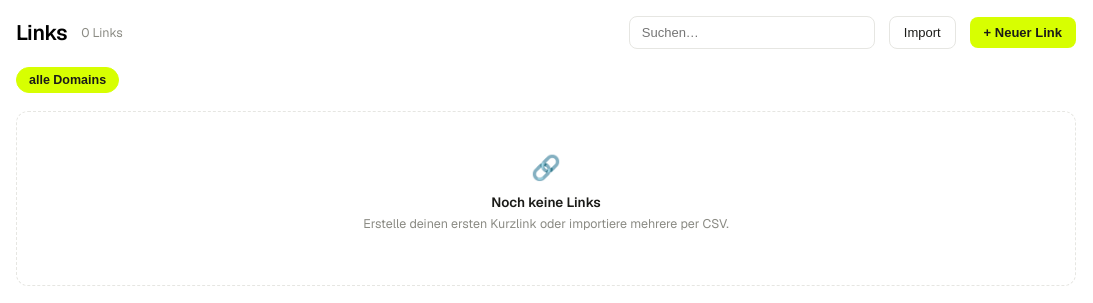
Test case: LinksView › WR-08: discards a stale search response that resolves after a newer one
This screenshot has width=1093, height=303.
In the field with class "search-input": (752,32) [629,16,875,49], type "a"
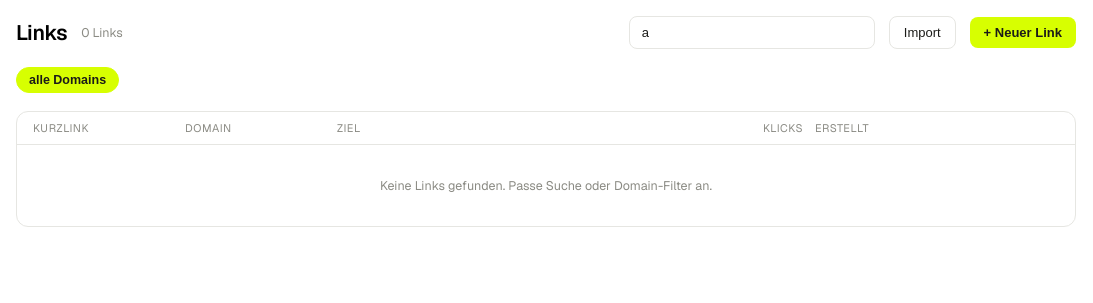
Replace the text in the field with class "search-input" with "ab": (752,32) [629,16,875,49]
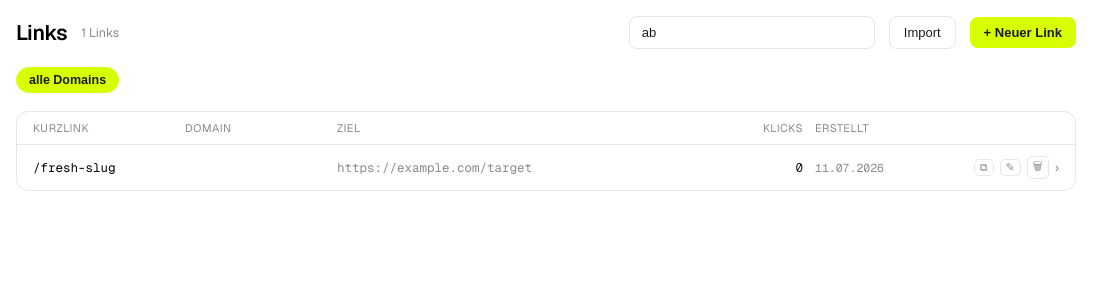
Expected: the text "fresh-slug" is shown, [33,159,116,176]
